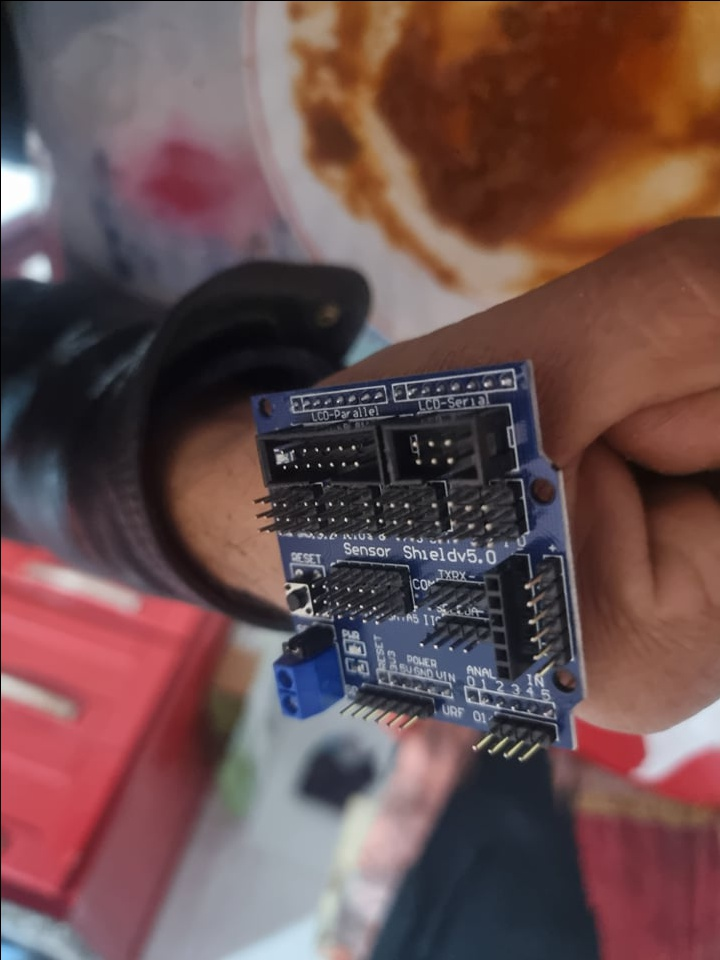5V EXPANSION: (246, 352, 590, 759)
